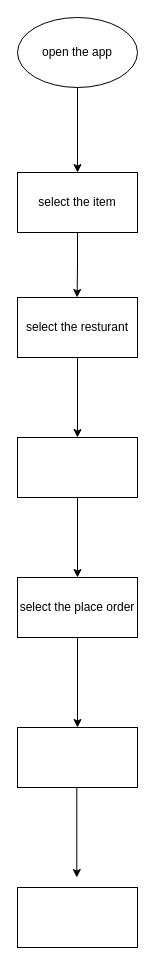
The diagram is 155 pixels wide and 965 high, and some of its shapes have lost their labels. Each missing label, with the centre of its shape:
"add to cart" belongs at (x=77, y=467).
"select the payment method" belongs at (x=77, y=757).
